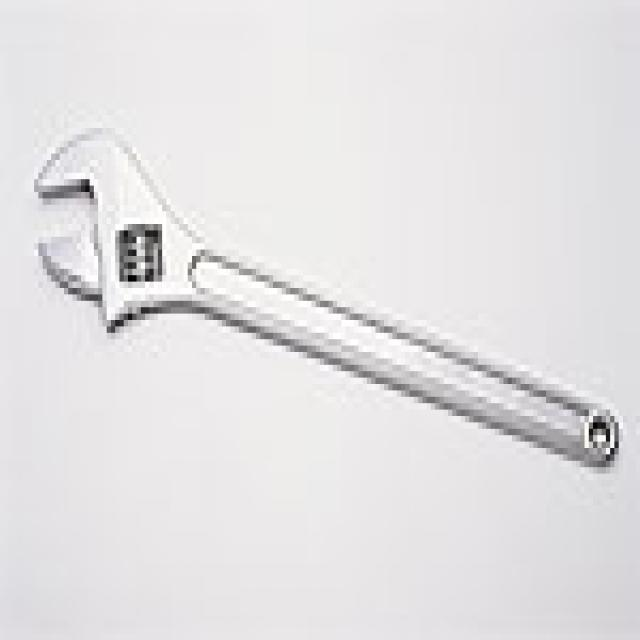wrench: (30, 120, 624, 480)
